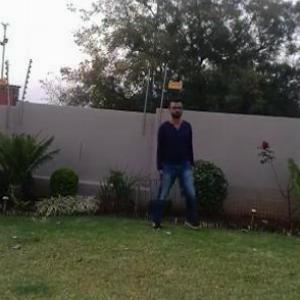follow: (146, 96, 193, 241)
